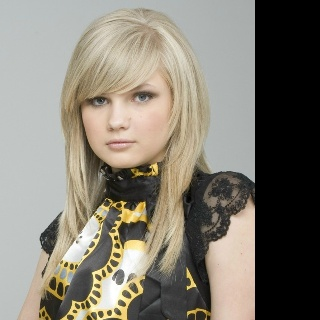without_mask: (77, 62, 179, 169)
